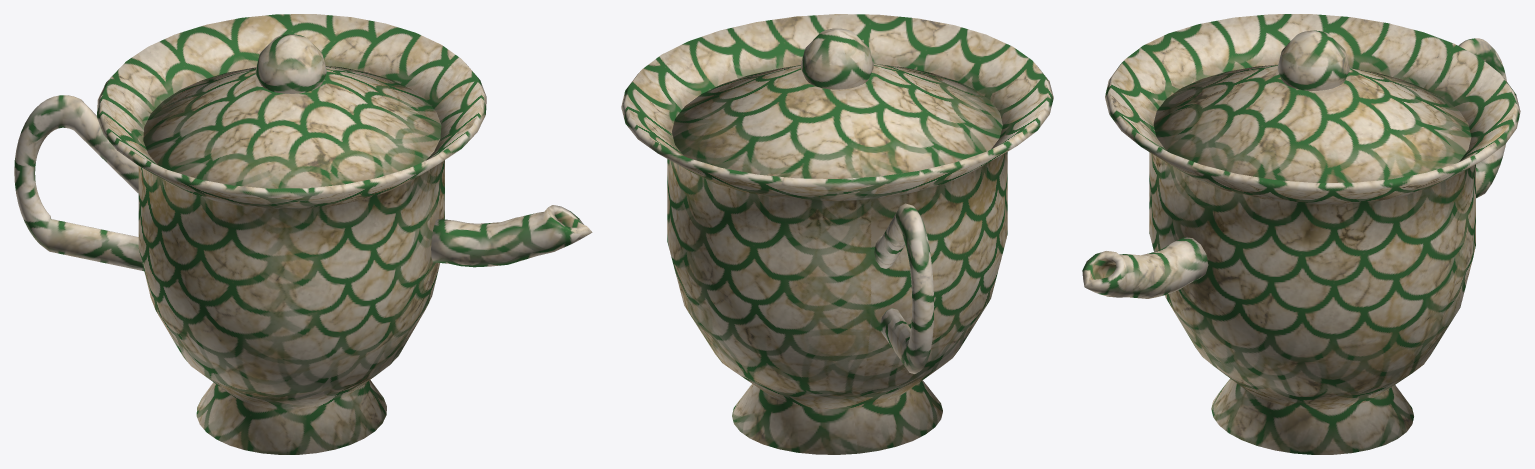
Rendered from Kettle - Final.fbx.
The picture shows the model from 3 angles, left to right: view 1: azimuth 30°, elevation 25°; view 2: azimuth 150°, elevation 25°; view 3: azimuth 270°, elevation 25°; orthographic projection. The views are drawn at different scales.
Visible parts, largest first — view 1: Kettle; view 2: Kettle; view 3: Kettle.
Part boxes in pixels (x1,y1,x2,y2): Kettle: (14, 14, 592, 454); Kettle: (621, 14, 1053, 454); Kettle: (1082, 14, 1520, 454).
Bounding box in the file's own units: 405 × 389 × 407.
